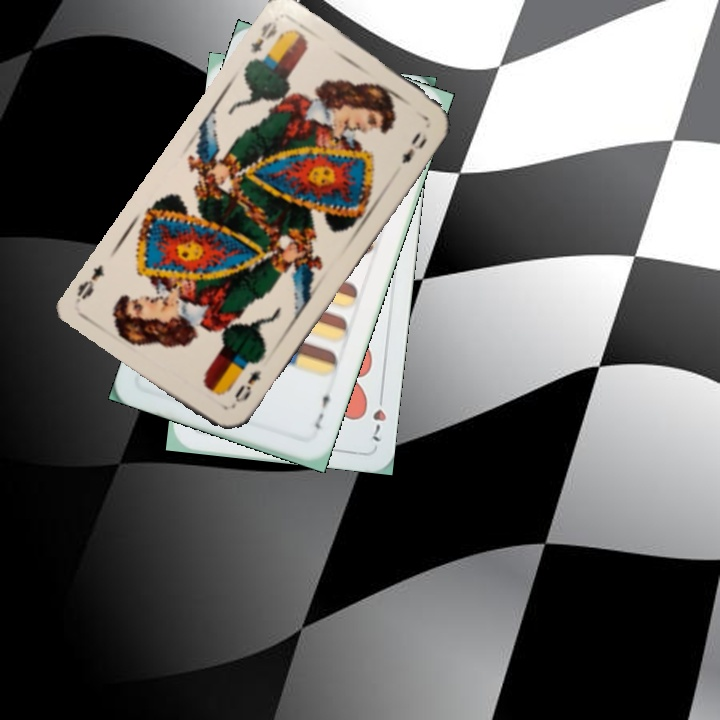E7: (310, 385, 335, 432)
EO: (227, 366, 264, 410), (246, 16, 280, 56)
H7: (368, 388, 389, 444)
